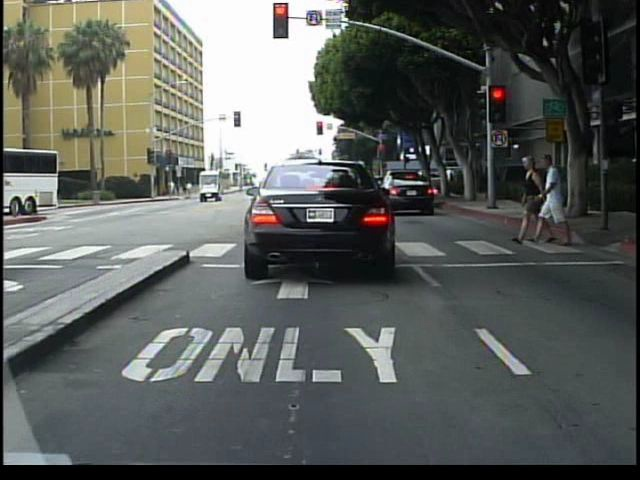person: (542, 152, 573, 251), (515, 155, 544, 246)
